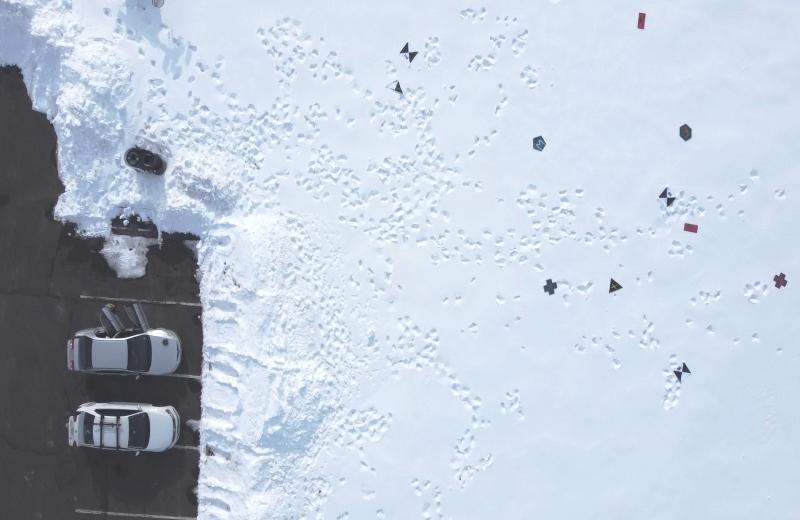Cross: (773, 271, 789, 290), (543, 277, 559, 295)
Hexagon: (678, 122, 694, 141)
Pentagon: (530, 133, 547, 154)
Rectangle: (636, 13, 647, 30), (683, 221, 697, 233)
Triangle: (608, 274, 624, 295)
